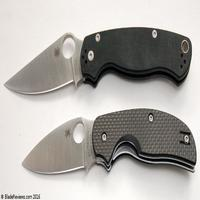knife: (19, 104, 199, 179), (2, 27, 190, 97)
